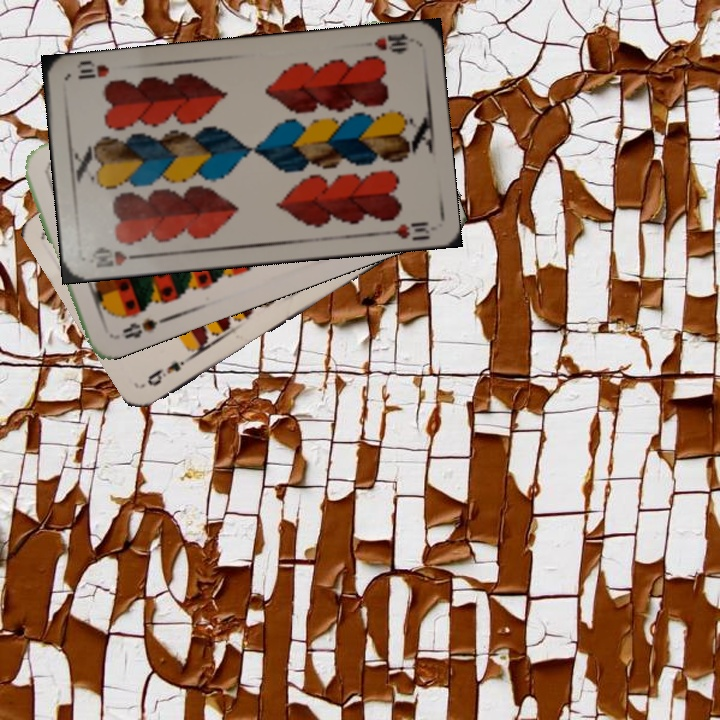E9: (143, 352, 194, 389)
H10: (86, 244, 145, 271), (370, 29, 410, 57)
S8: (118, 314, 168, 342)
